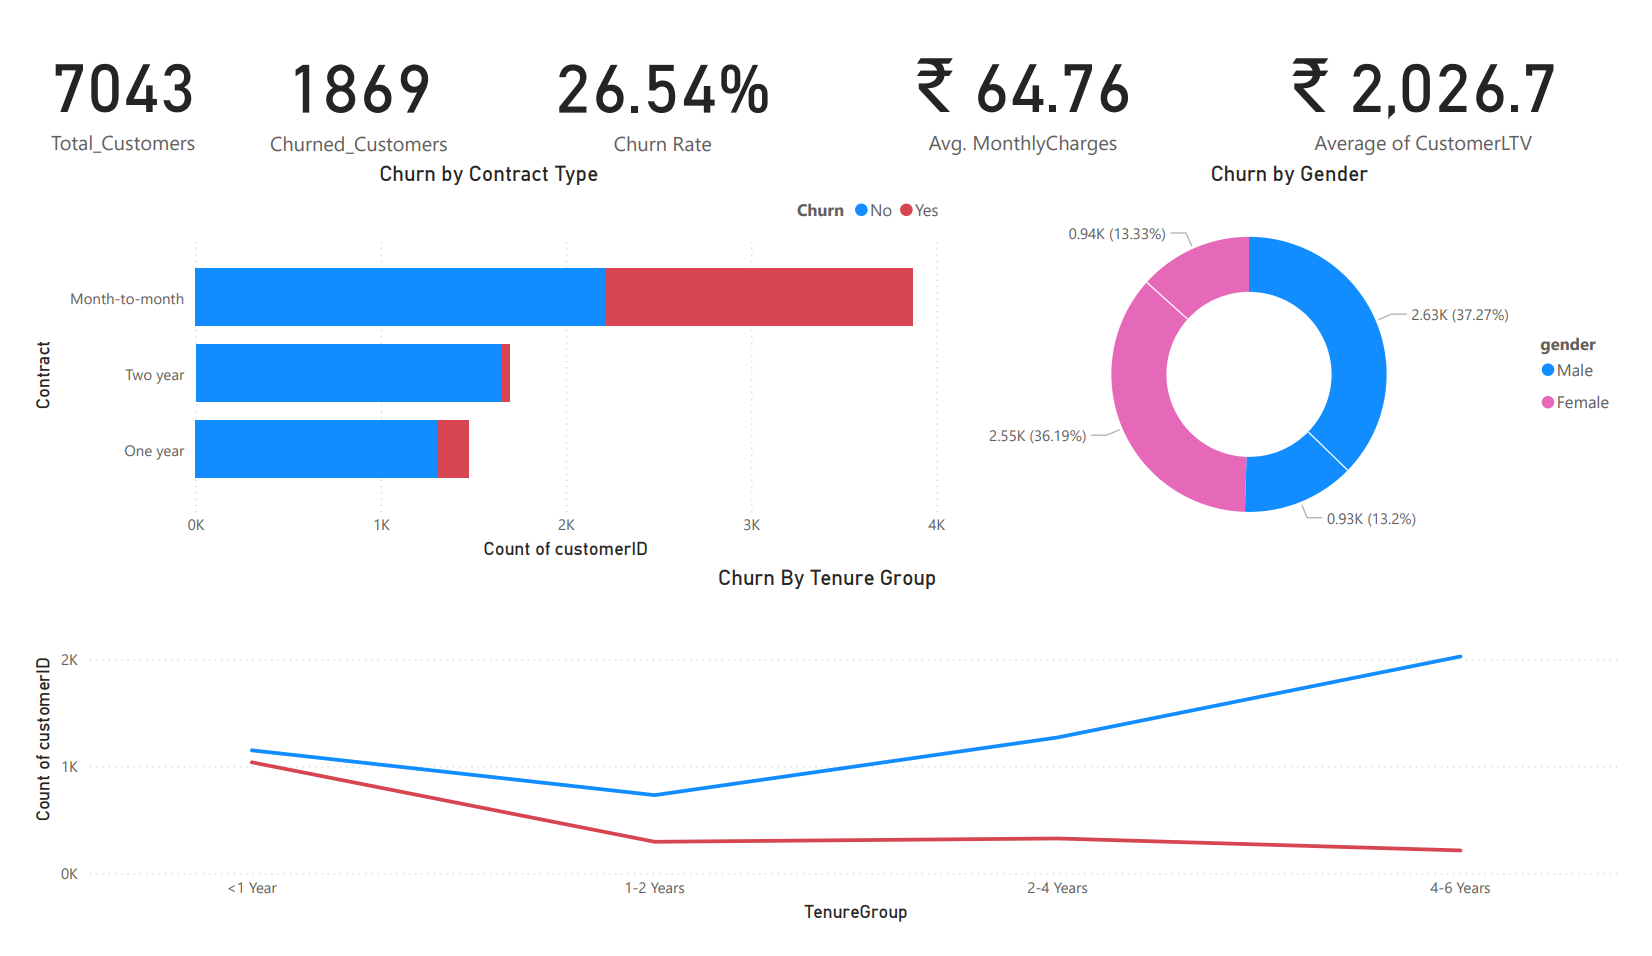

What the dashboard file says about the page in this screenshot:
{"tool":"powerbi","page":{"name":"Executive_Overview","canvas":[1280,720],"ordinal":0},"visuals":[{"type":"card","fields":{"Values":["Count(churn_data_for_dashboard.customerID)"]},"box":[0,0,153.7,106.9],"z":0},{"type":"card","fields":{"Values":["CountNonNull(churn_data_for_dashboard.Churn)"]},"box":[153.7,1.2,223.3,105.7],"z":1000},{"type":"card","fields":{"Values":["churn_data_for_dashboard.Churn Rate"]},"box":[377,1.2,263,105.7],"z":2000},{"type":"card","fields":{"Values":["Avg(churn_data_for_dashboard.MonthlyCharges)"]},"box":[640,0,313.4,106.9],"z":3000},{"type":"card","fields":{"Values":["Avg(churn_data_for_dashboard.CustomerLTV)"]},"box":[953.4,0,326.6,106.9],"z":4000},{"type":"barChart","title":"Churn by Contract Type","fields":{"Y":["CountNonNull(churn_data_for_dashboard.customerID)"],"Category":["churn_data_for_dashboard.Contract"],"Series":["churn_data_for_dashboard.Churn"]},"box":[0,107.1,738.8,322.8],"z":5000},{"type":"donutChart","title":"Churn by Gender","fields":{"Category":["churn_data_for_dashboard.gender"],"Y":["CountNonNull(churn_data_for_dashboard.customerID)"],"Series":["churn_data_for_dashboard.Churn"]},"box":[738.8,107.1,541.2,322.8],"z":6000},{"type":"lineChart","title":"Churn By Tenure Group","fields":{"Y":["CountNonNull(churn_data_for_dashboard.customerID)"],"Series":["churn_data_for_dashboard.Churn"],"Category":["TenureGroups.TenureGroup"]},"box":[0,429.9,1280,290.8],"z":7000}]}

Visuals, with their boxes in screenshot pixels (x1, y1, x2, y2), scaled from the page's 1280x720 canvas onto the 1652x956 screenshot:
card - Count(churn_data_for_dashboard.customerID): BBox(0, 0, 198, 142)
card - CountNonNull(churn_data_for_dashboard.Churn): BBox(198, 2, 487, 142)
card - churn_data_for_dashboard.Churn Rate: BBox(487, 2, 826, 142)
card - Avg(churn_data_for_dashboard.MonthlyCharges): BBox(826, 0, 1230, 142)
card - Avg(churn_data_for_dashboard.CustomerLTV): BBox(1230, 0, 1651, 142)
"Churn by Contract Type" barChart: BBox(0, 142, 954, 571)
"Churn by Gender" donutChart: BBox(954, 142, 1651, 571)
"Churn By Tenure Group" lineChart: BBox(0, 571, 1651, 955)
